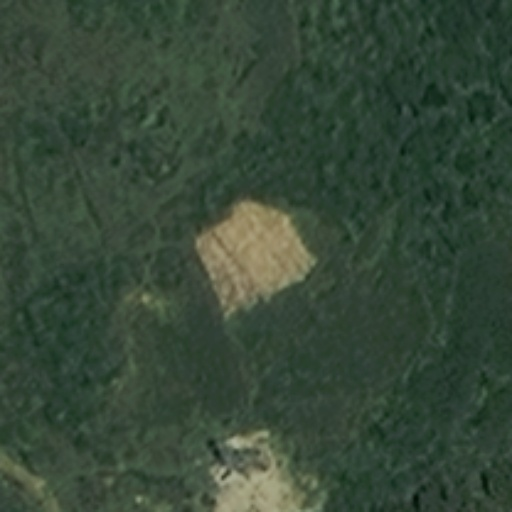landslide: (194, 198, 322, 313)
